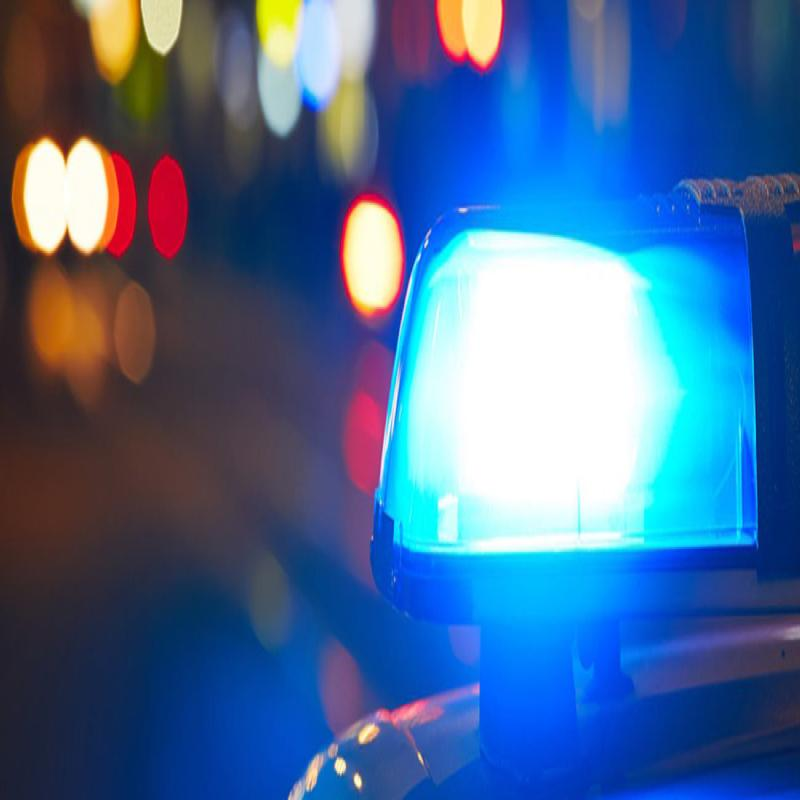AmbulanceSiren: (370, 190, 800, 560)
